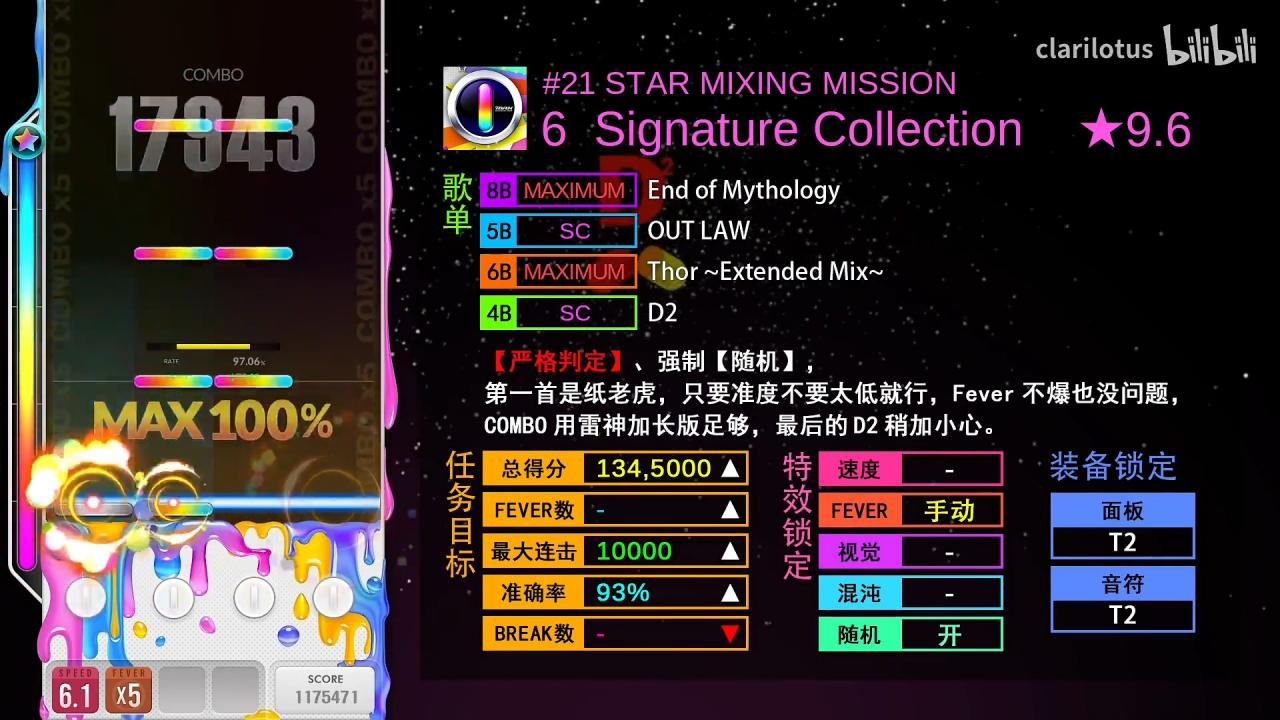note: (53, 502, 134, 517), (133, 374, 213, 389), (134, 246, 213, 261), (214, 246, 293, 261), (134, 118, 213, 132), (135, 503, 214, 517), (213, 375, 293, 388), (215, 119, 293, 132)
